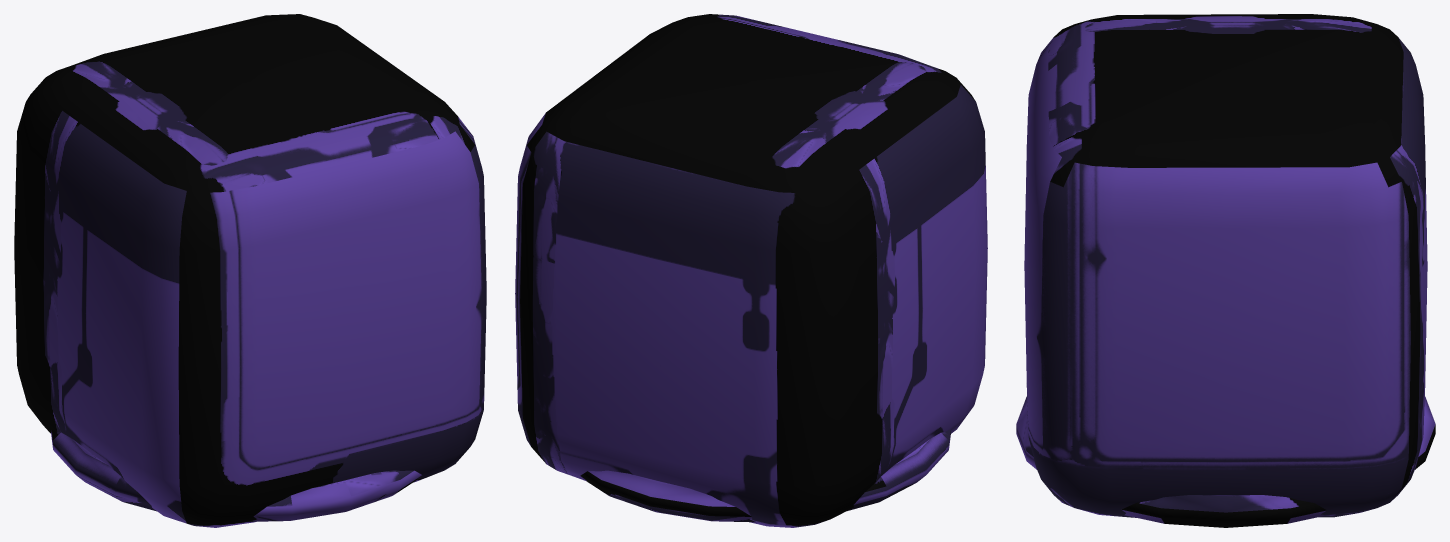
Rendered from Estela_AntebrazoDer.fbx.
The picture shows the model from 3 angles, left to right: view 1: azimuth 30°, elevation 25°; view 2: azimuth 150°, elevation 25°; view 3: azimuth 270°, elevation 25°; orthographic projection. The views are drawn at different scales.
Parts seen in each view (by area): view 1: Estela_AntebrazoDer; view 2: Estela_AntebrazoDer; view 3: Estela_AntebrazoDer.
Part boxes in pixels (x1,y1,x2,y2): Estela_AntebrazoDer: (14,14,486,527); Estela_AntebrazoDer: (515,14,987,527); Estela_AntebrazoDer: (1016,14,1435,527).
Size of the model in its own units: 1.12 by 1.15 by 1.12.
